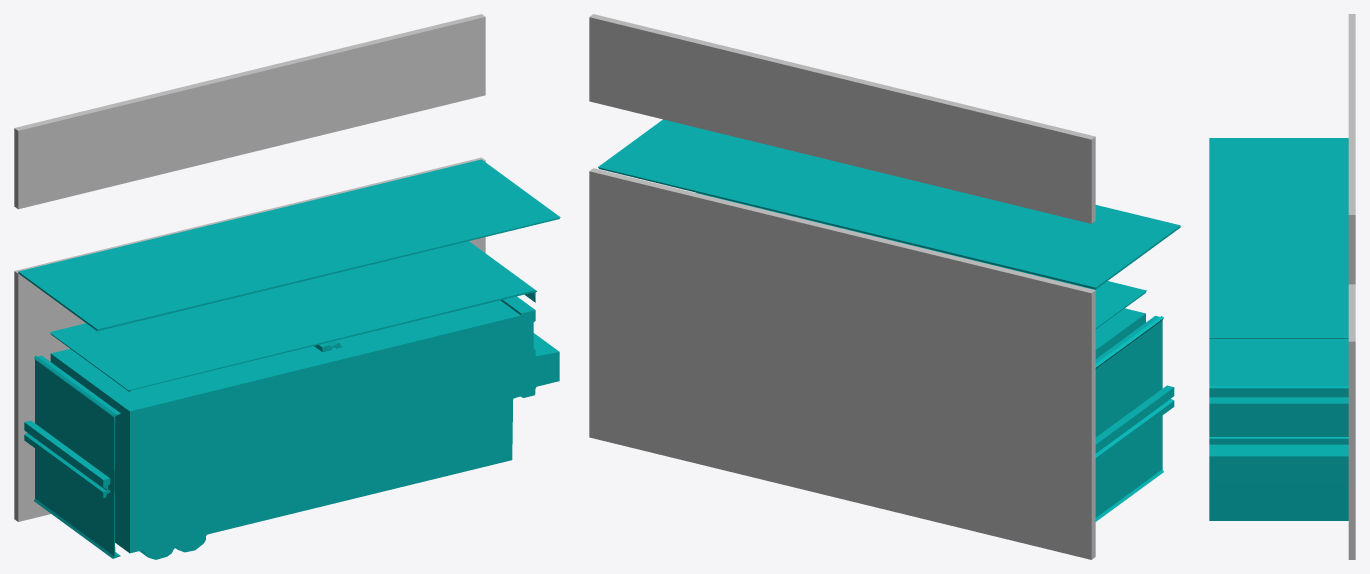
3 renders of one model, left to right at view 1: azimuth 30°, elevation 25°; view 2: azimuth 150°, elevation 25°; view 3: azimuth 270°, elevation 25°, orthographic. The views are drawn at different scales.
Parts seen in each view (by area): view 1: world; view 2: world; view 3: world.
Part boxes in pixels (left/top/right/bottom): world: left=14, top=14, right=560, bottom=559; world: left=589, top=14, right=1180, bottom=559; world: left=1209, top=14, right=1355, bottom=559.
Bounding box in the file's own units: 10.23 × 8.18 × 3.15.
